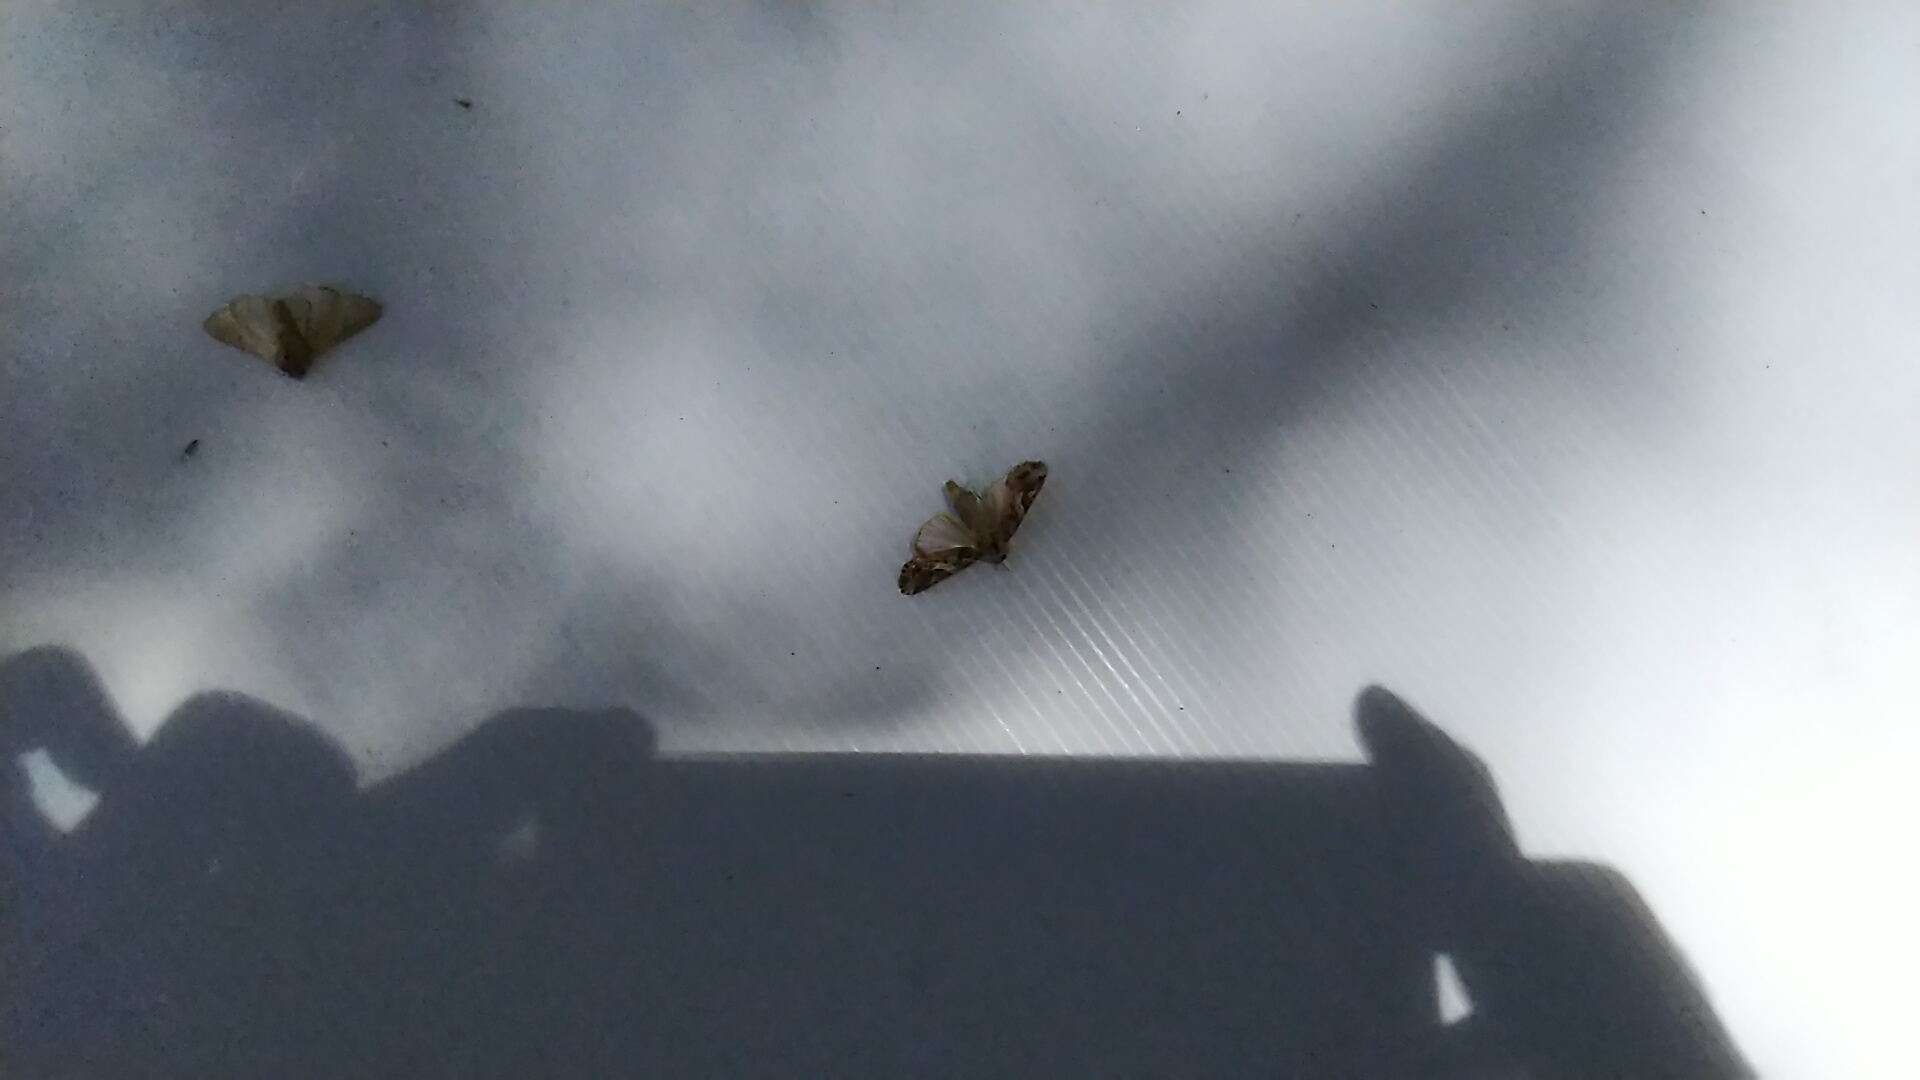INS-B: (884, 438, 1060, 593), (191, 262, 389, 393)
